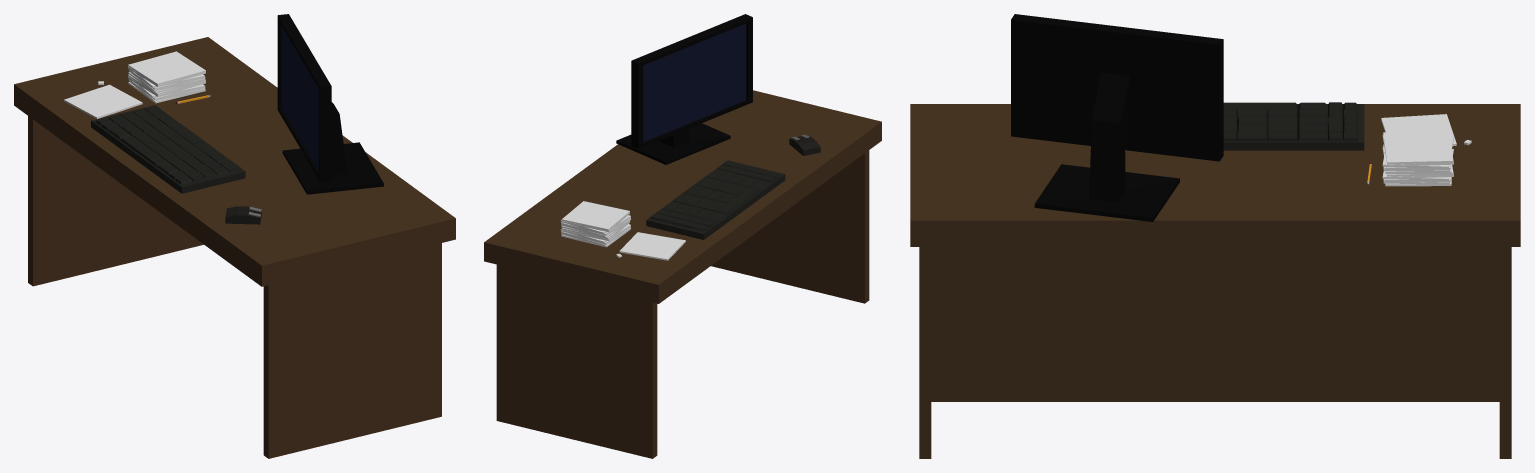
File: officetablewithcomputer.fbx
The picture shows the model from 3 angles, left to right: view 1: azimuth 30°, elevation 25°; view 2: azimuth 150°, elevation 25°; view 3: azimuth 270°, elevation 25°; orthographic projection. The views are drawn at different scales.
Parts seen in each view (by area): view 1: Cube.001, Cube.002, Cube.003, Cube.036, Cube.040, Cube.004; view 2: Cube.001, Cube.002, Cube.003, Cube.036, Cube.040, Cube.004; view 3: Cube.001, Cube.002, Cube.003, Cube.036, Cube.040.
Part boxes in pixels (box(x1,y1,x2,y2)): Cube.001: box(14, 37, 455, 458); Cube.002: box(277, 14, 383, 194); Cube.003: box(91, 105, 245, 193); Cube.036: box(128, 51, 205, 85); Cube.040: box(64, 84, 142, 118); Cube.004: box(225, 206, 261, 224); Cube.001: box(484, 90, 881, 458); Cube.002: box(616, 14, 752, 164); Cube.003: box(646, 160, 785, 239); Cube.036: box(561, 201, 629, 230); Cube.040: box(619, 232, 685, 260); Cube.004: box(789, 134, 820, 155); Cube.001: box(910, 104, 1520, 458); Cube.002: box(1011, 14, 1223, 221); Cube.003: box(1223, 102, 1364, 150); Cube.036: box(1383, 130, 1453, 164); Cube.040: box(1381, 114, 1456, 146).
Size of the model in its own units: 91.82 by 143 by 201.
